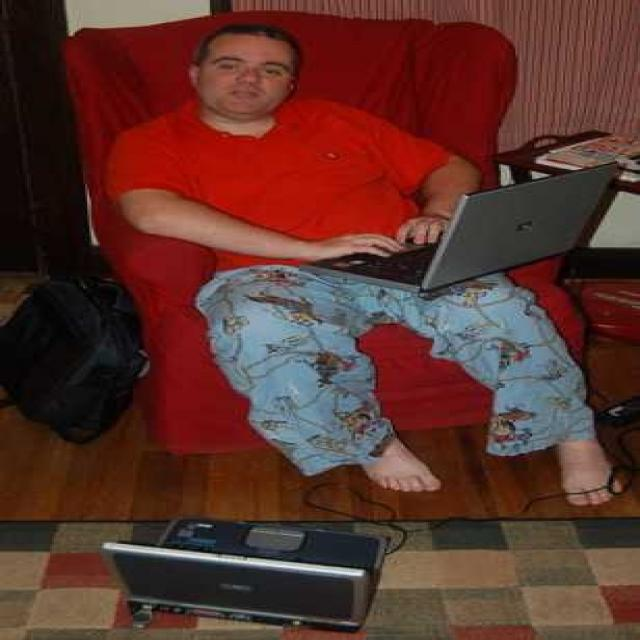laptop: (98, 495, 441, 637), (424, 168, 621, 292)
